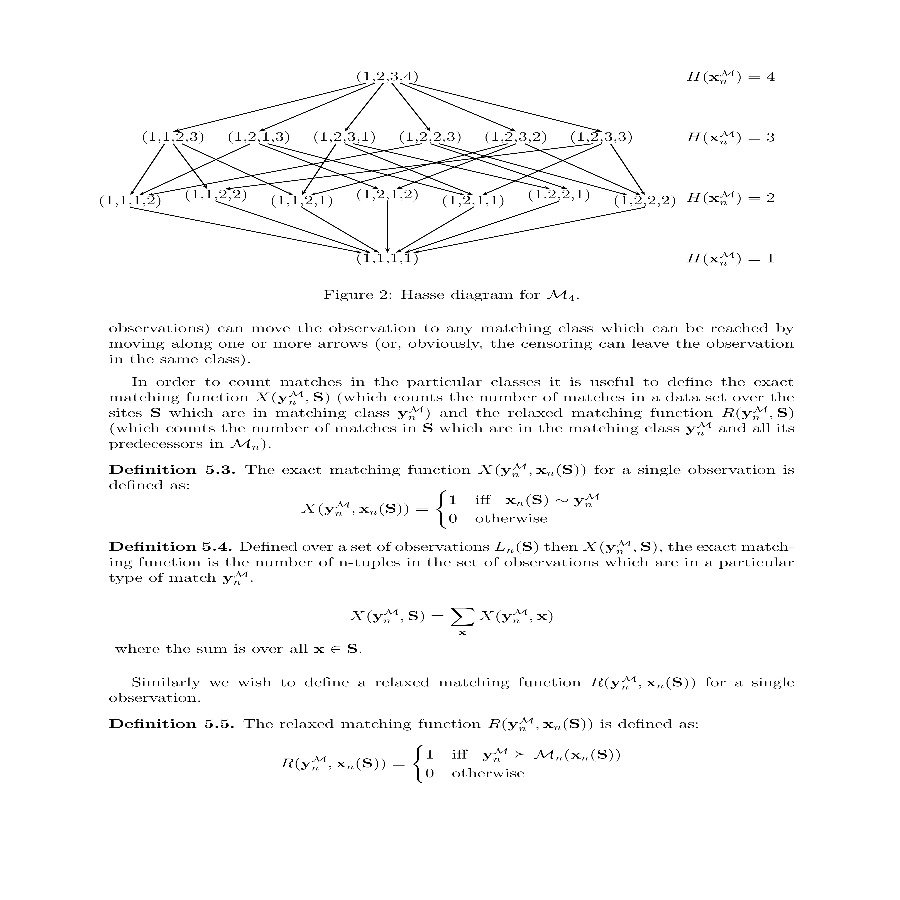eq: (281, 740, 630, 785), (300, 486, 607, 528), (347, 600, 558, 639)
